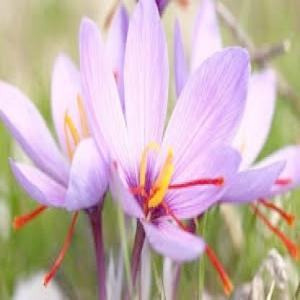Saffron: (83, 0, 279, 264), (0, 57, 112, 234)
